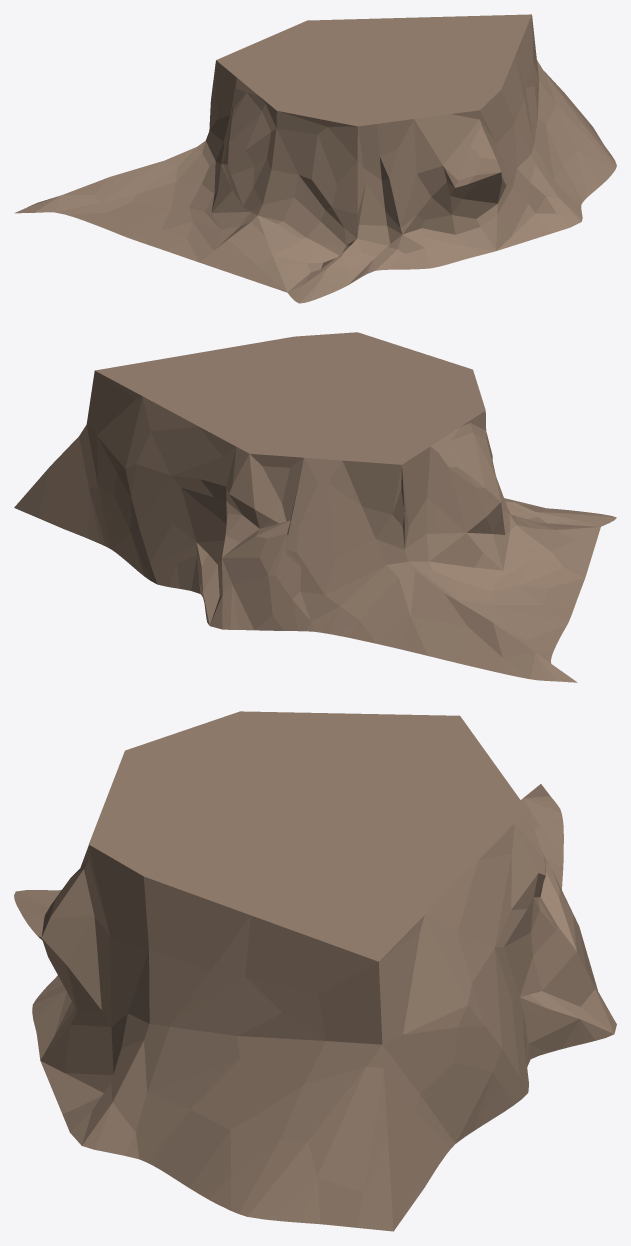
File: Rock01.fbx
The picture shows the model from 3 angles, top to bottom: view 1: azimuth 30°, elevation 25°; view 2: azimuth 150°, elevation 25°; view 3: azimuth 270°, elevation 25°; orthographic projection. The views are drawn at different scales.
Parts seen in each view (by area): view 1: polySurface1; view 2: polySurface1; view 3: polySurface1.
Part boxes in pixels (left/top/right/bottom): polySurface1: left=14, top=14, right=616, bottom=303; polySurface1: left=14, top=332, right=616, bottom=682; polySurface1: left=14, top=711, right=616, bottom=1231.
Size of the model in its own units: 2563 by 643 by 1522.
